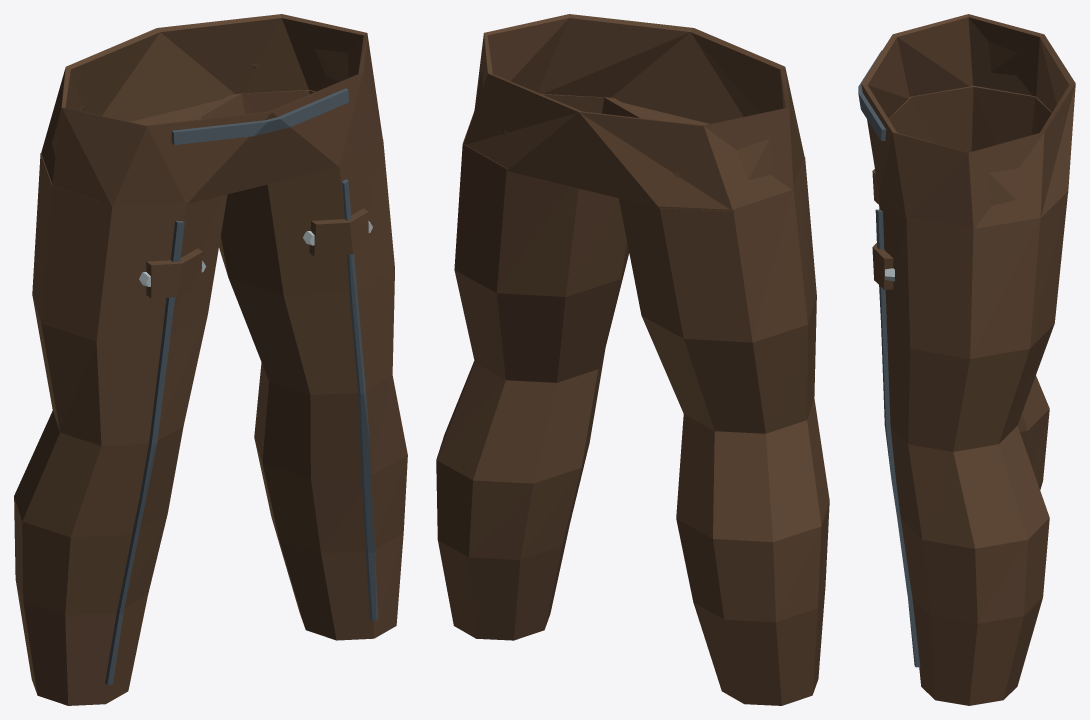
Rendered from studded_legs-male-thickHide.glb.
3 renders of one model, left to right at view 1: azimuth 30°, elevation 25°; view 2: azimuth 150°, elevation 25°; view 3: azimuth 270°, elevation 25°, orthographic. The views are drawn at different scales.
Visible parts, largest first — view 1: studded trouser leg -1, studded trouser leg 1, studded trouser pelvis yoke, Trouser reinforced front seam 1, Trouser reinforced front seam -1, Trouser waist facing, Heavy hide binding studded trouser leg 1, Heavy hide binding studded trouser leg -1; view 2: studded trouser leg -1, studded trouser leg 1, studded trouser pelvis yoke; view 3: studded trouser leg 1, studded trouser pelvis yoke, studded trouser leg -1, Trouser reinforced front seam 1, Heavy hide binding studded trouser leg 1, Trouser waist facing.
Boxes of the visible parts, x1,y1,x2,y2 form: studded trouser leg -1: [14, 124, 227, 705]; studded trouser leg 1: [193, 90, 407, 640]; studded trouser pelvis yoke: [41, 14, 382, 206]; Trouser reinforced front seam 1: [342, 179, 378, 620]; Trouser reinforced front seam -1: [105, 220, 184, 685]; Trouser waist facing: [171, 88, 348, 144]; Heavy hide binding studded trouser leg 1: [309, 208, 368, 256]; Heavy hide binding studded trouser leg -1: [146, 248, 202, 298]; studded trouser leg -1: [618, 157, 829, 705]; studded trouser leg 1: [436, 93, 650, 640]; studded trouser pelvis yoke: [463, 14, 804, 211]; studded trouser leg 1: [879, 191, 1068, 705]; studded trouser pelvis yoke: [861, 14, 1075, 228]; studded trouser leg -1: [889, 85, 1051, 489]; Trouser reinforced front seam 1: [875, 209, 920, 667]; Heavy hide binding studded trouser leg 1: [872, 243, 893, 289]; Trouser waist facing: [858, 50, 886, 140].
Size of the model in its own units: 2.42 by 3.57 by 1.3.
